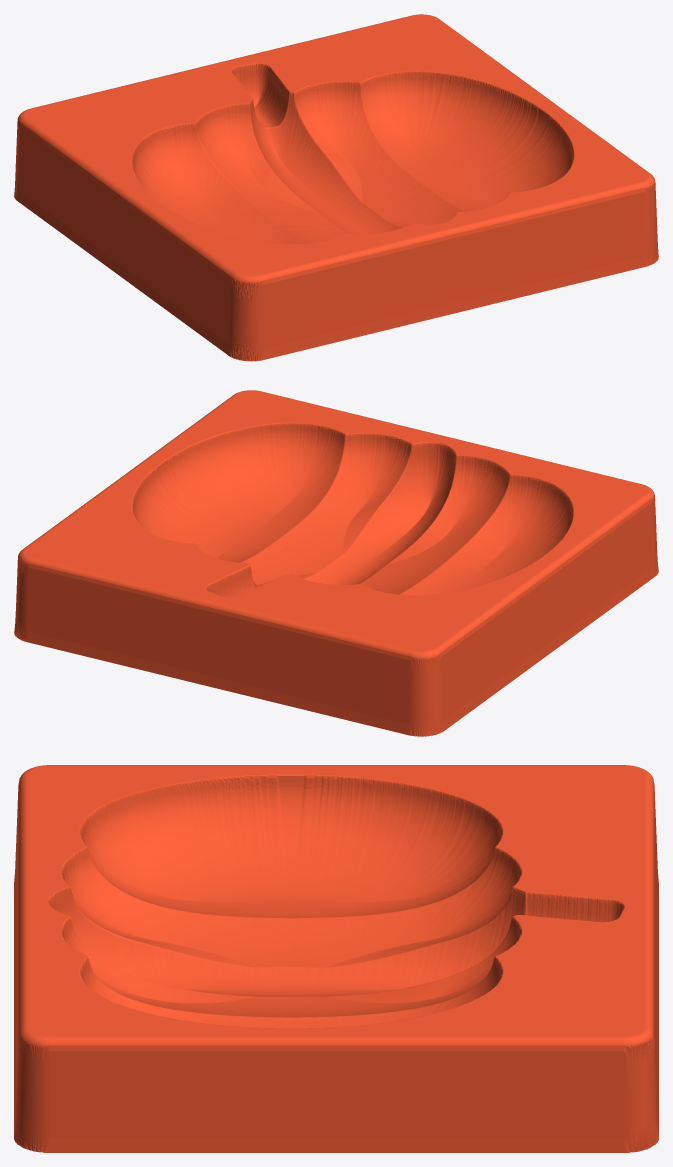
Rendered from mold.glb.
3 views of the same model, one above another, from view 1: azimuth 30°, elevation 25°; view 2: azimuth 150°, elevation 25°; view 3: azimuth 270°, elevation 25° (orthographic). The views are drawn at different scales.
Parts seen in each view (by area): view 1: geometry_0; view 2: geometry_0; view 3: geometry_0.
Part boxes in pixels (x1,y1,x2,y2): geometry_0: (14, 14, 658, 361); geometry_0: (14, 390, 658, 736); geometry_0: (14, 765, 658, 1152).
Bounding box in the file's own units: 0.1709 × 0.031 × 0.1646.
